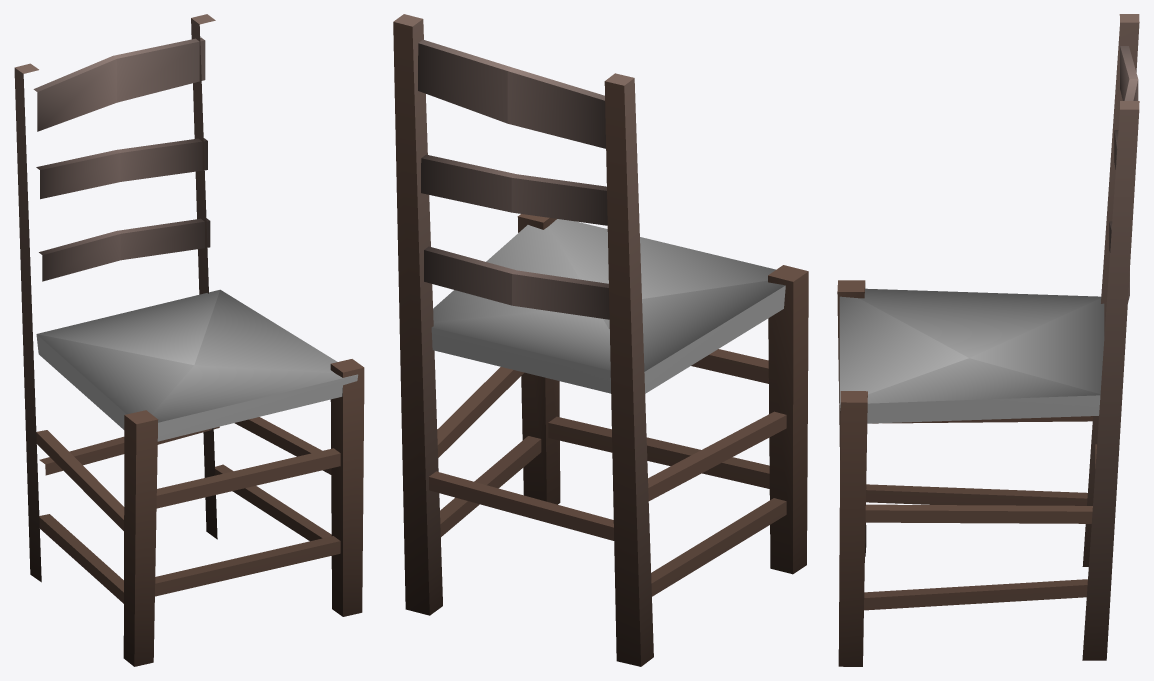
File: prop_chair.glb
The picture shows the model from 3 angles, left to right: view 1: azimuth 30°, elevation 25°; view 2: azimuth 150°, elevation 25°; view 3: azimuth 270°, elevation 25°; orthographic projection. The views are drawn at different scales.
Parts seen in each view (by area): view 1: prop_chair_mesh; view 2: prop_chair_mesh; view 3: prop_chair_mesh.
Boxes of the visible parts, x1,y1,x2,y2 form: prop_chair_mesh: [14, 14, 364, 666]; prop_chair_mesh: [393, 14, 808, 666]; prop_chair_mesh: [837, 14, 1139, 666].
Bounding box in the file's own units: 0.4541 × 0.9504 × 0.4741.
